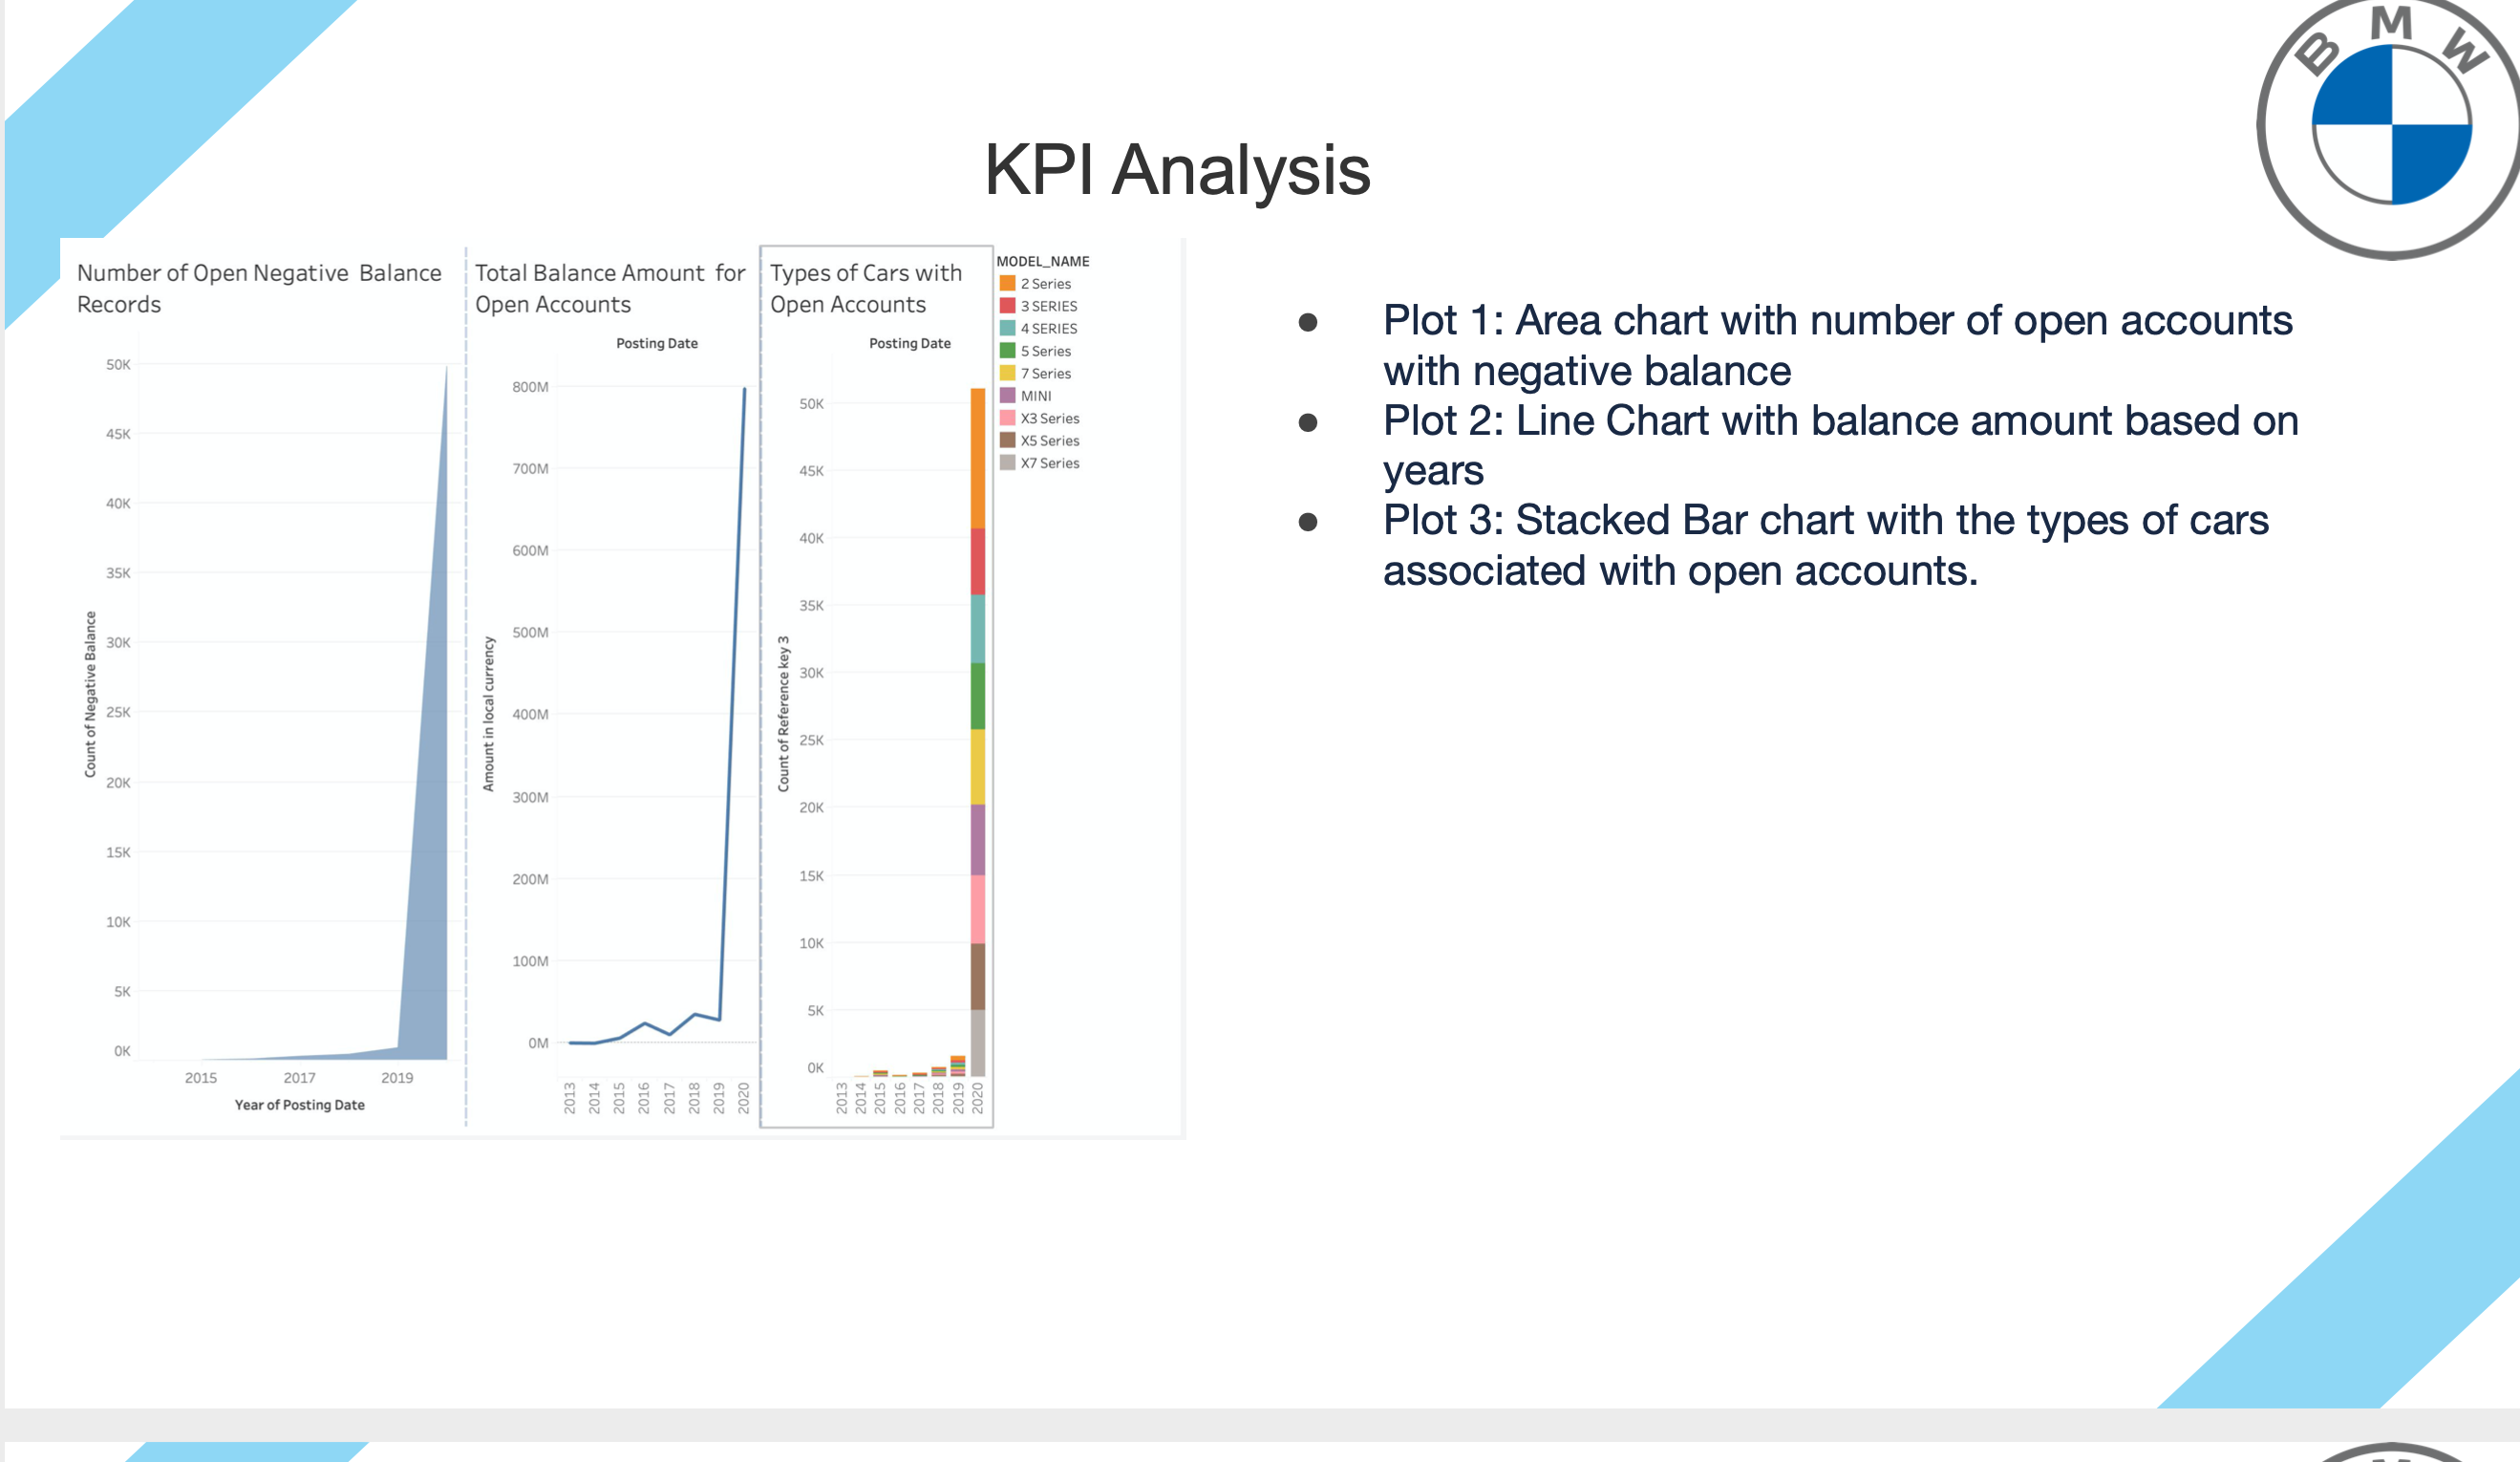

Layout of this report page (visuals, bound fields, positions):
{"tool":"tableau","page":{"name":"Q7","canvas":[1000,800],"ordinal":0},"visuals":[{"type":"worksheet","box":[0,0,1000,800]},{"type":"worksheet","param":"horz","box":[8,8,984,784]},{"type":"worksheet","box":[8,8,824,784]},{"type":"worksheet","title":"q7_1","mark":"Area","rows":["Calculation_1919096447255023623"],"cols":["Posting Date"],"box":[8,8,355,784]},{"type":"worksheet","title":"q7_2","mark":"Automatic","rows":["Amount in local currency"],"cols":["Posting Date"],"box":[363,8,263,784]},{"type":"worksheet","title":"q7_3","mark":"Bar","rows":["Reference key 3"],"cols":["Posting Date"],"box":[626,8,206,784]},{"type":"worksheet","param":"vert","box":[832,8,160,784]},{"type":"worksheet","title":"q7_3","mark":"Bar","rows":["Reference key 3"],"cols":["Posting Date"],"param":"[federated.0t0626c1oxo1f213s7fzw058y9gb].[none:Calculation_1919096447259975689:n","box":[832,8,160,206]}]}

Visuals, with their boxes on the page's 1000x800 design canvas (x1, y1, x2, y2). These are canvas units, not pixel positions in the 2520x1462 screenshot, which may show the page scaled, cropped or inside an application window:
worksheet: [0, 0, 1000, 800]
worksheet: [8, 8, 992, 792]
worksheet: [8, 8, 832, 792]
"q7_1" worksheet (Area marks): [8, 8, 363, 792]
"q7_2" worksheet: [363, 8, 626, 792]
"q7_3" worksheet (Bar marks): [626, 8, 832, 792]
worksheet: [832, 8, 992, 792]
"q7_3" worksheet (Bar marks): [832, 8, 992, 214]
